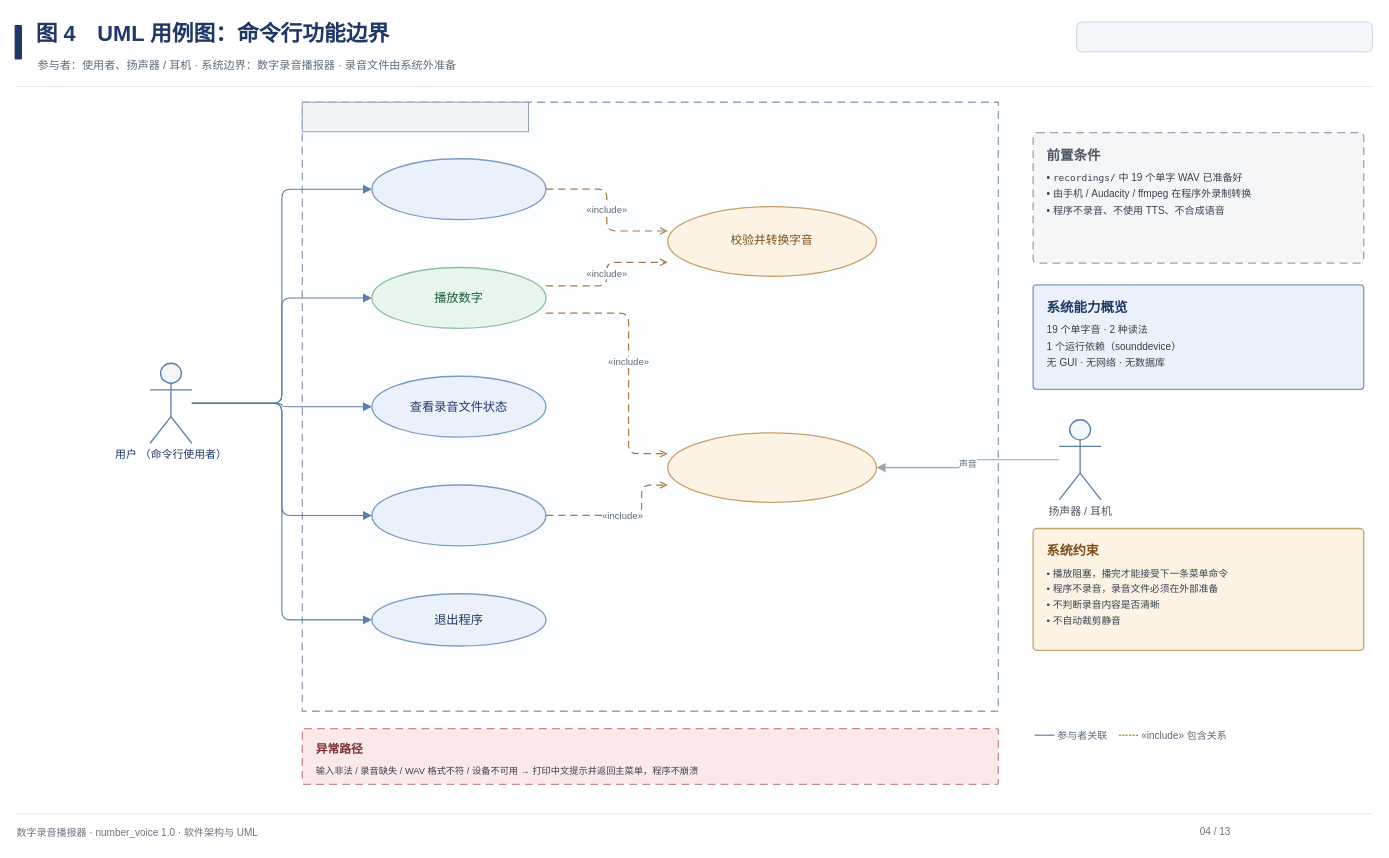
Image size: 1389x858. Some labels were removed from this diagram. The shapes that lost their labels are listed below. From the top down, each one's centre as x and y in pixels, then its label:
At point (1224, 36): "《软件开发方法》课程任务四 · Python 3.12".
At point (415, 116): "数字录音播报器 · 命令行".
At point (458, 189): "查看读法".
At point (772, 467): "检查录音并播放".
At point (458, 515): "试听单字".
